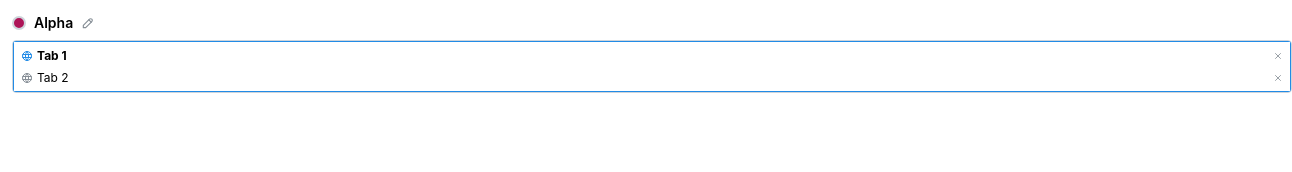
Test case: CmuxPanel › sends what the user saw with a close, and shows a stale refusal after refetching
Click the button named "Close Tab 2" at (1278,78), box [1269,69,1287,87]
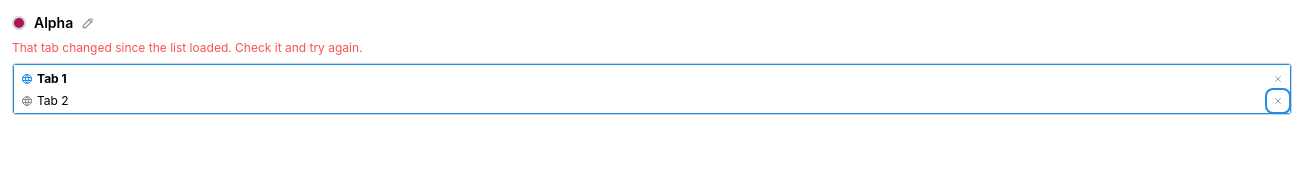
Now the text "That tab changed" is shown, box [12,40,362,55]
